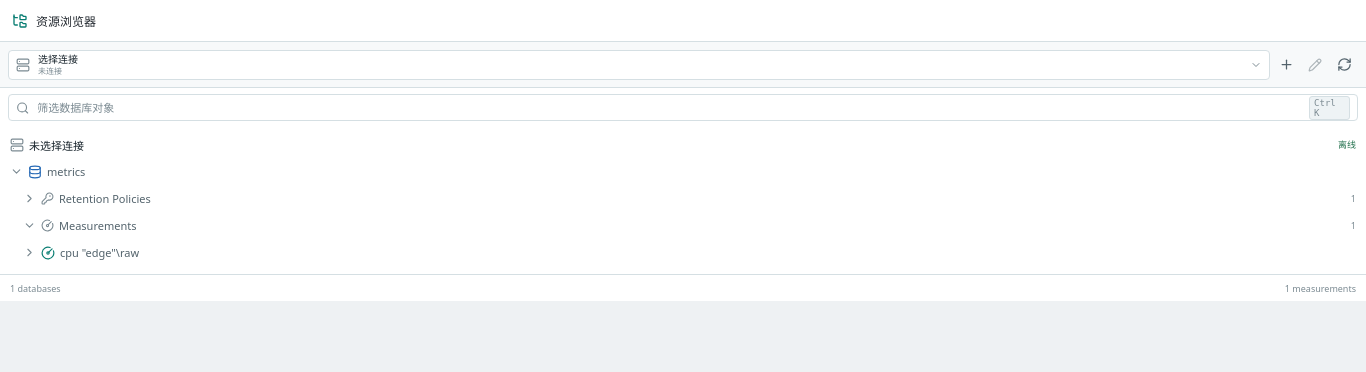
Test: SchemaPanel measurements › selects a measurement, safely updates the active query, and merges native field and tag details
The width and height of the screenshot is (1366, 372).
Click the button "cpu \"edge\"\\raw" at coordinates (100, 252), box [5, 239, 1361, 266]
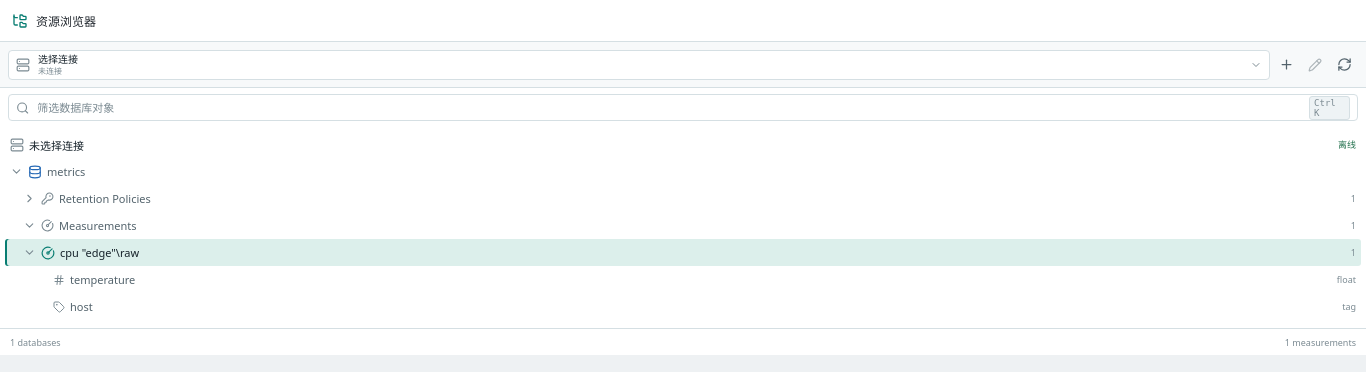
Now the text "temperature" is shown, box [70, 272, 135, 287]
Now the text "host" is shown, box [70, 299, 93, 314]
Click the button "cpu \"edge\"\\raw 1" at coordinates (100, 252), box [5, 239, 1361, 266]
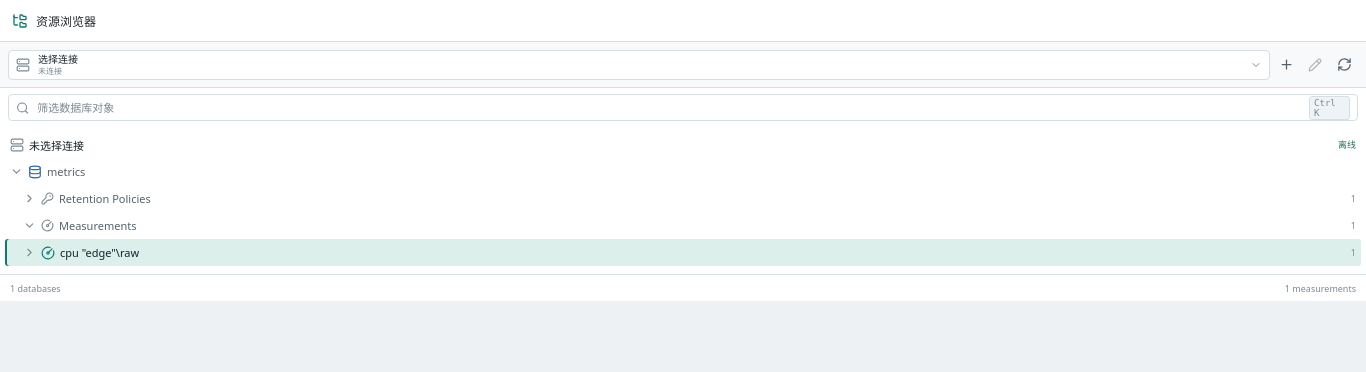
Click the button "cpu \"edge\"\\raw 1" at coordinates (100, 252), box [5, 239, 1361, 266]
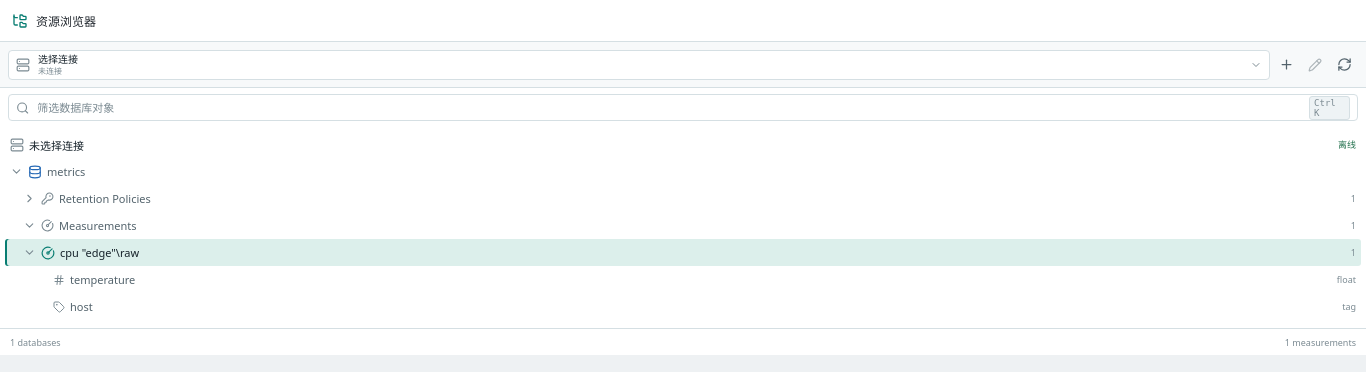
Now the text "temperature" is shown, box [70, 272, 135, 287]
